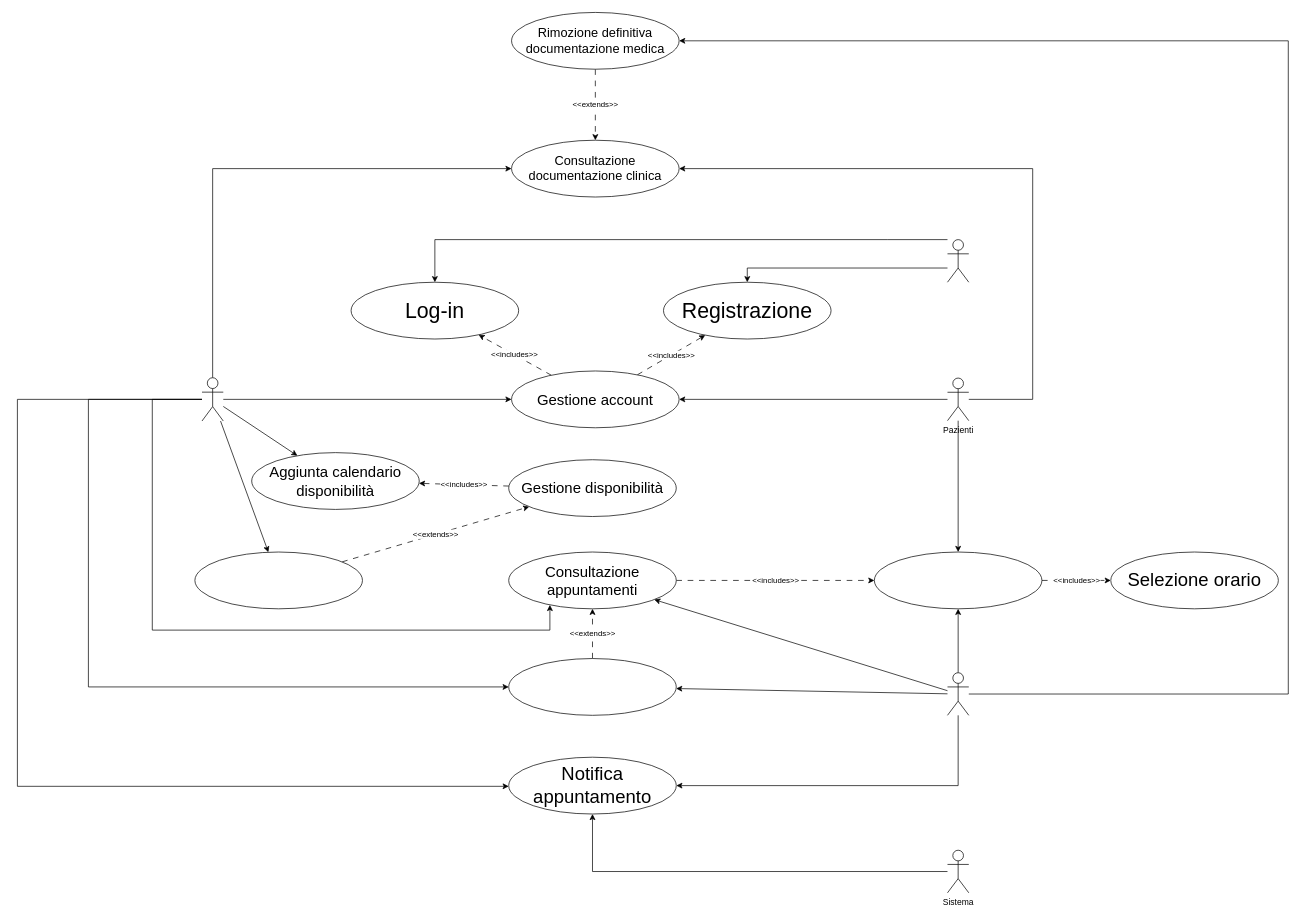
Some shapes in this 1306 by 920 pixel diagram are drawn without their labels. The centre of each missing label's shape, as x and y in pixels:
"Annullamento appuntamento" goes at pixel 592 686.
"Identity provider" goes at pixel 958 260.
"Medici" goes at pixel 212 399.
"Modifica calendario disponibilità" goes at pixel 278 580.
"Personale amministrativo" goes at pixel 958 693.
"Selezione data" goes at pixel 958 580.
